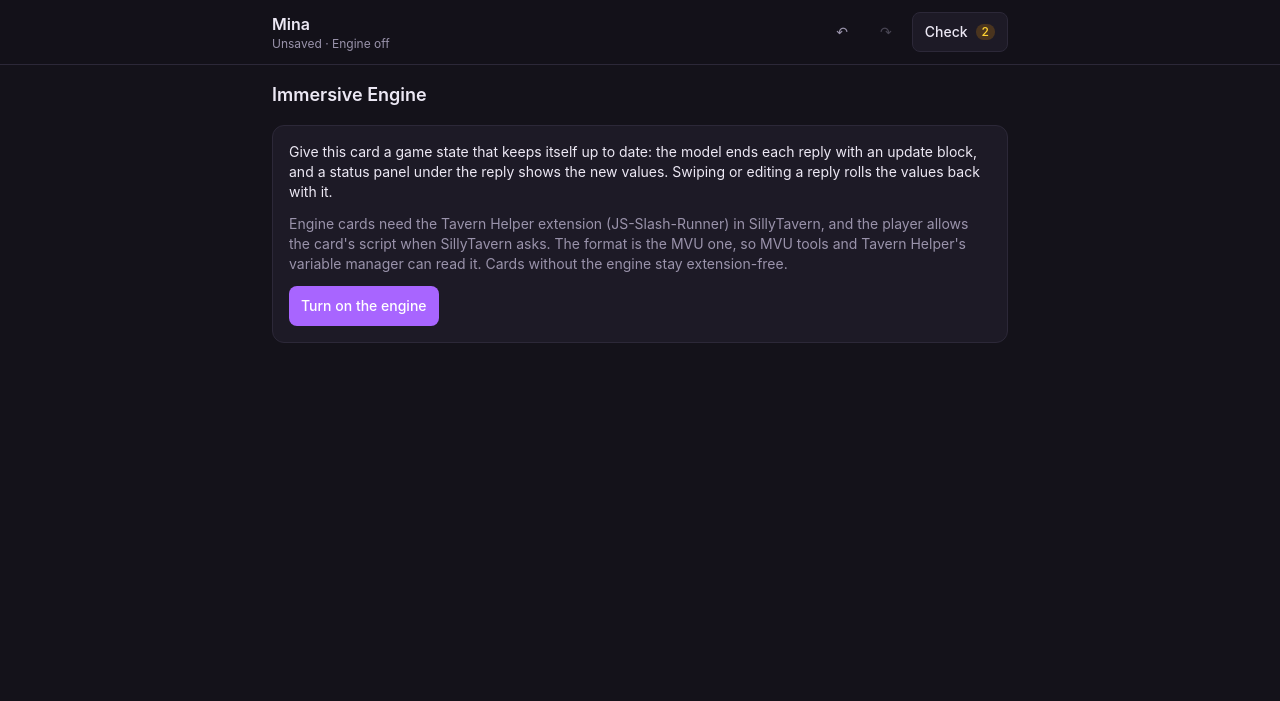
Test: Immersive Engine section › flags a name that can't be a path
The width and height of the screenshot is (1280, 701).
Click the button "Turn on the engine". click: [364, 306]
box: [289, 286, 438, 326]
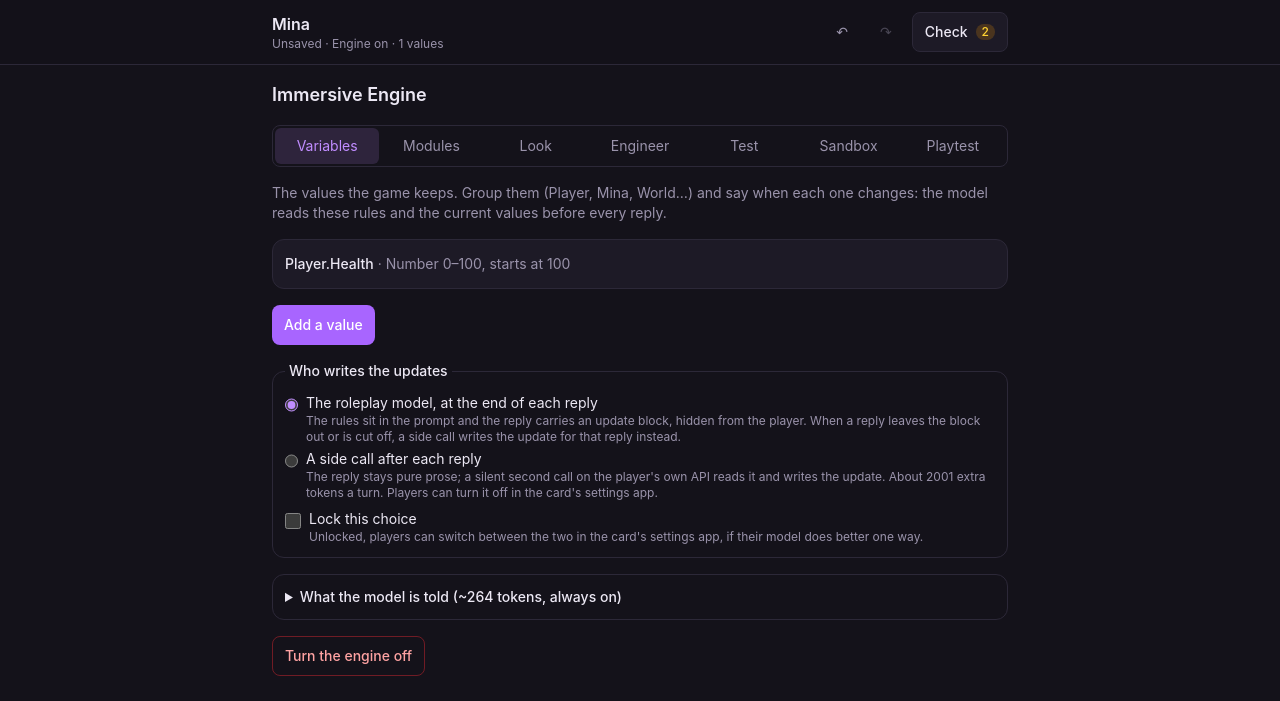
Click the button "Player.Health · Number 0–100, starts at 100". click: [329, 264]
box: [273, 240, 1007, 288]
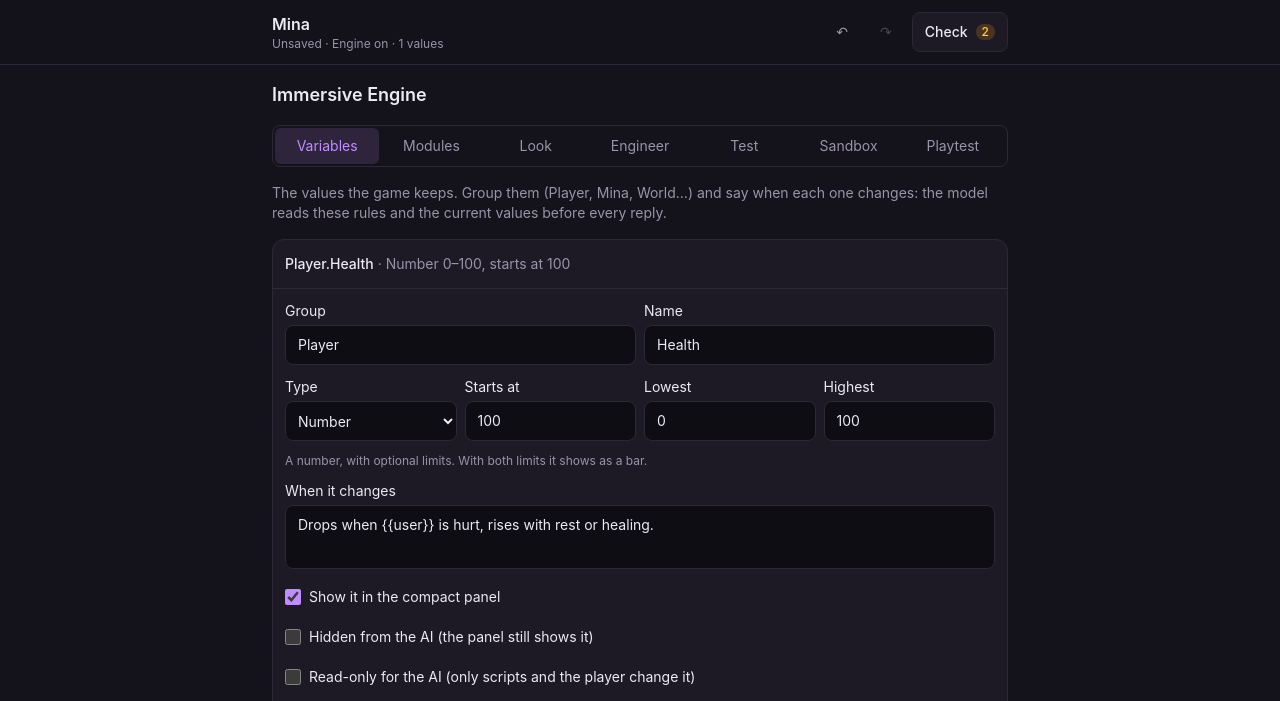
Replace the text in the field labelled "Name" with "HP.max". click: [820, 345]
box: [644, 325, 995, 365]
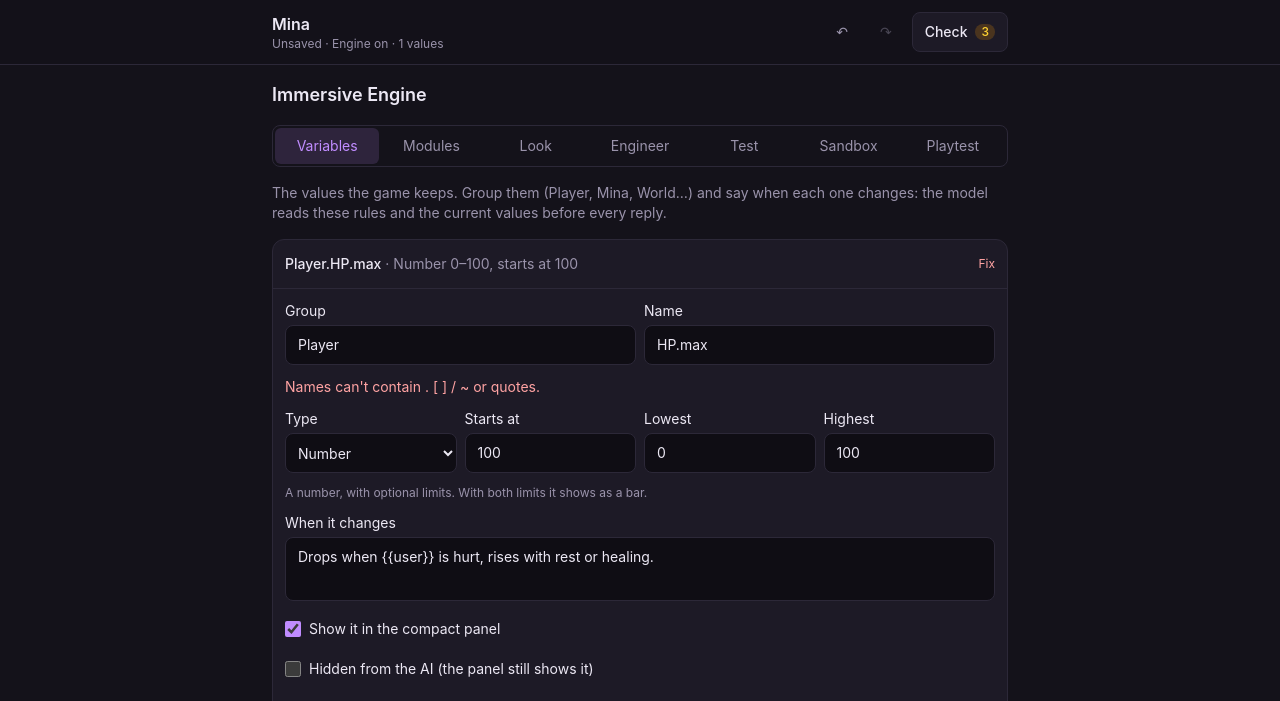
Expected: the text "Names can't contain . [ ] / ~ or quotes." is shown, [285, 378, 540, 395]
